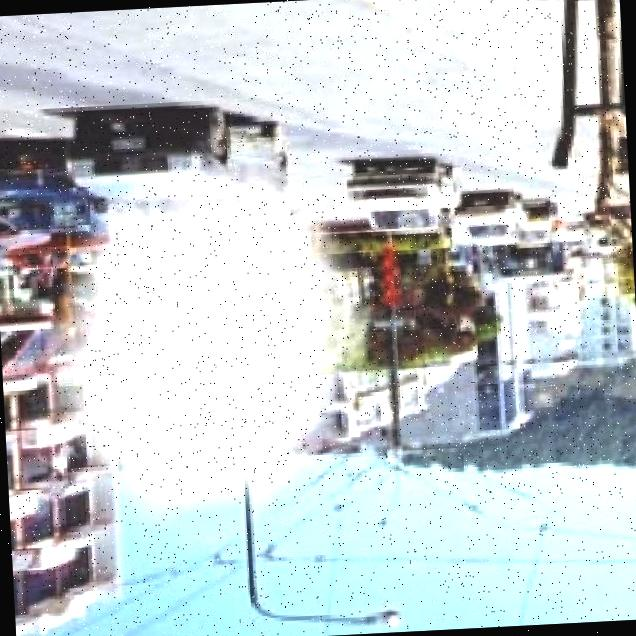smoke: (14, 159, 360, 501)
